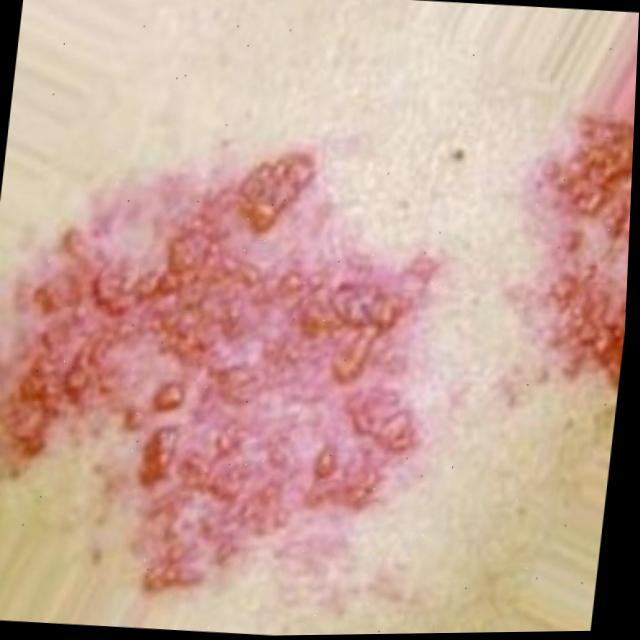Shingles: (0, 135, 440, 593), (516, 109, 635, 385)
